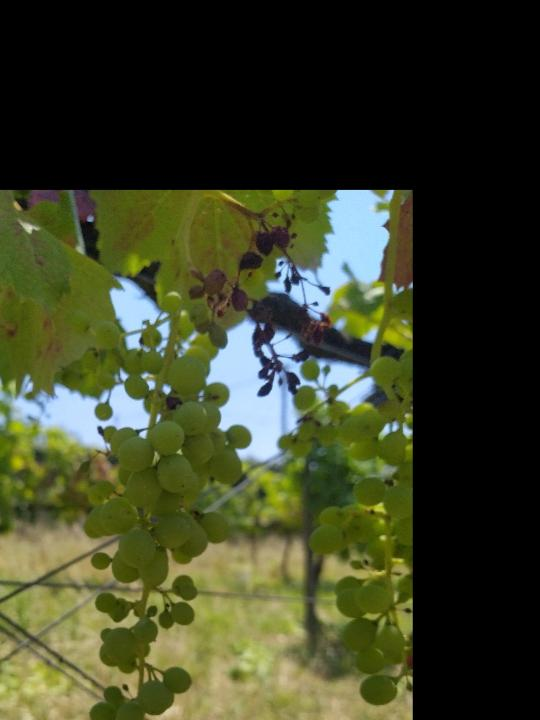grape: (73, 284, 261, 720), (188, 197, 341, 410)
